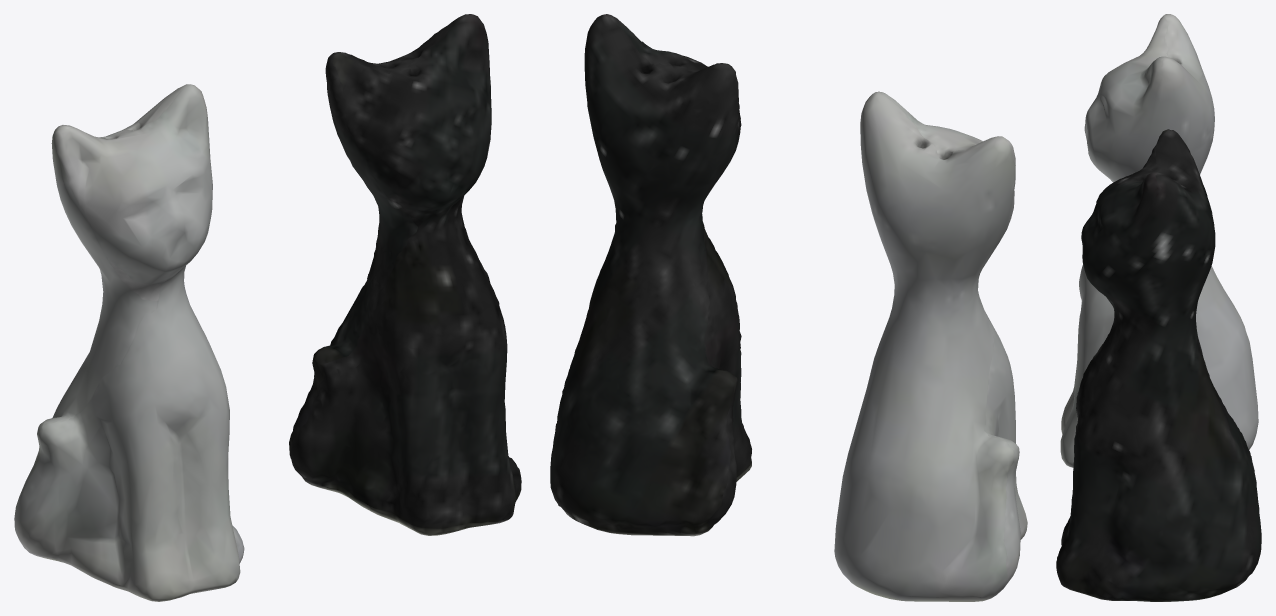
3 renders of one model, left to right at view 1: azimuth 30°, elevation 25°; view 2: azimuth 150°, elevation 25°; view 3: azimuth 270°, elevation 25°, orthographic. The views are drawn at different scales.
Parts seen in each view (by area): view 1: Object; view 2: Object; view 3: Object.
Boxes of the visible parts, box(x1,y1,x2,y2) form: Object: box(14, 14, 521, 601); Object: box(550, 14, 1027, 601); Object: box(1056, 14, 1261, 601).
Size of the model in its own units: 0.1179 by 0.1149 by 0.0507.
Materials: 1 (1 with a texture image).
